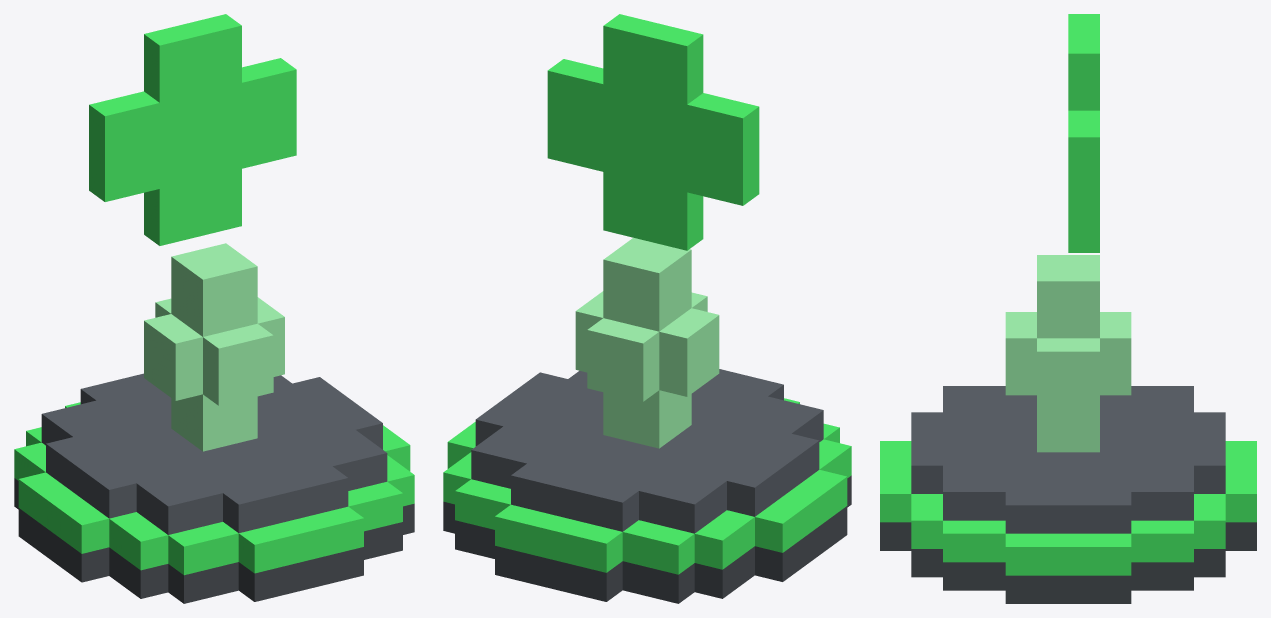
Rendered from prop_buff_heal.glb.
3 views of the same model, side by side, from view 1: azimuth 30°, elevation 25°; view 2: azimuth 150°, elevation 25°; view 3: azimuth 270°, elevation 25° (orthographic). The views are drawn at different scales.
Parts seen in each view (by area): view 1: prop_buff_heal; view 2: prop_buff_heal; view 3: prop_buff_heal.
Boxes of the visible parts, left/top/right/bottom form: prop_buff_heal: left=14, top=14, right=414, bottom=603; prop_buff_heal: left=443, top=14, right=851, bottom=603; prop_buff_heal: left=880, top=14, right=1256, bottom=603.
Bounding box in the file's own units: 0.6 × 0.85 × 0.6.
